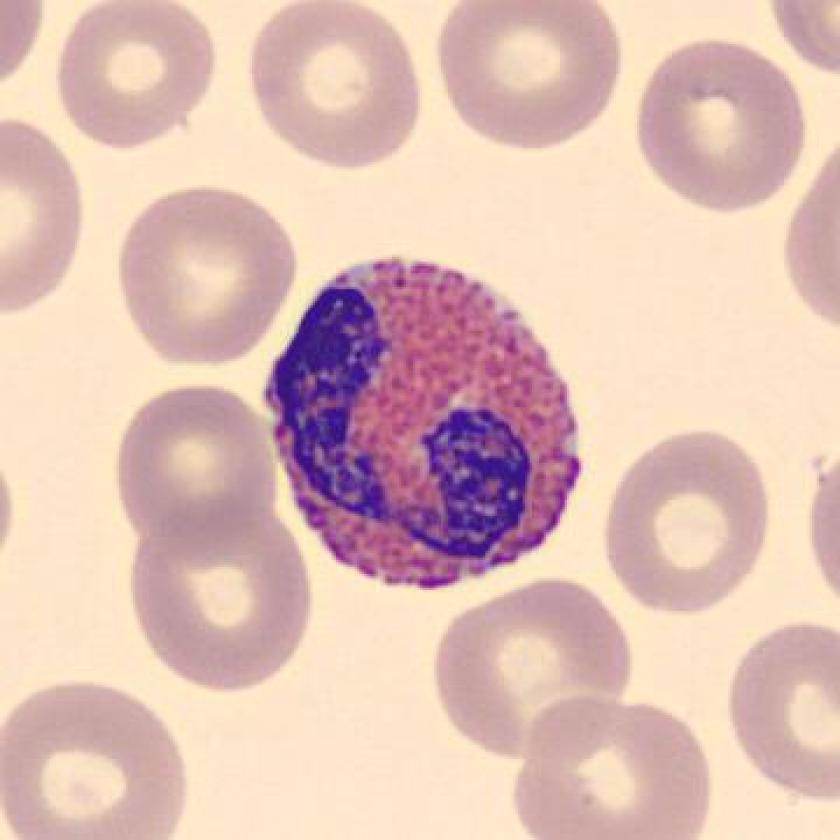eosinophil: (256, 251, 599, 603)
